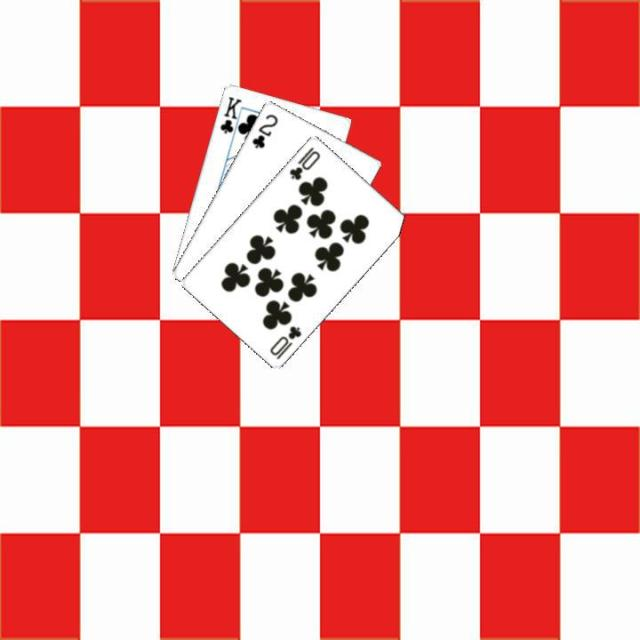10C: (285, 142, 322, 182), (266, 321, 303, 361)
2C: (248, 110, 280, 150)
KC: (216, 92, 245, 142)
